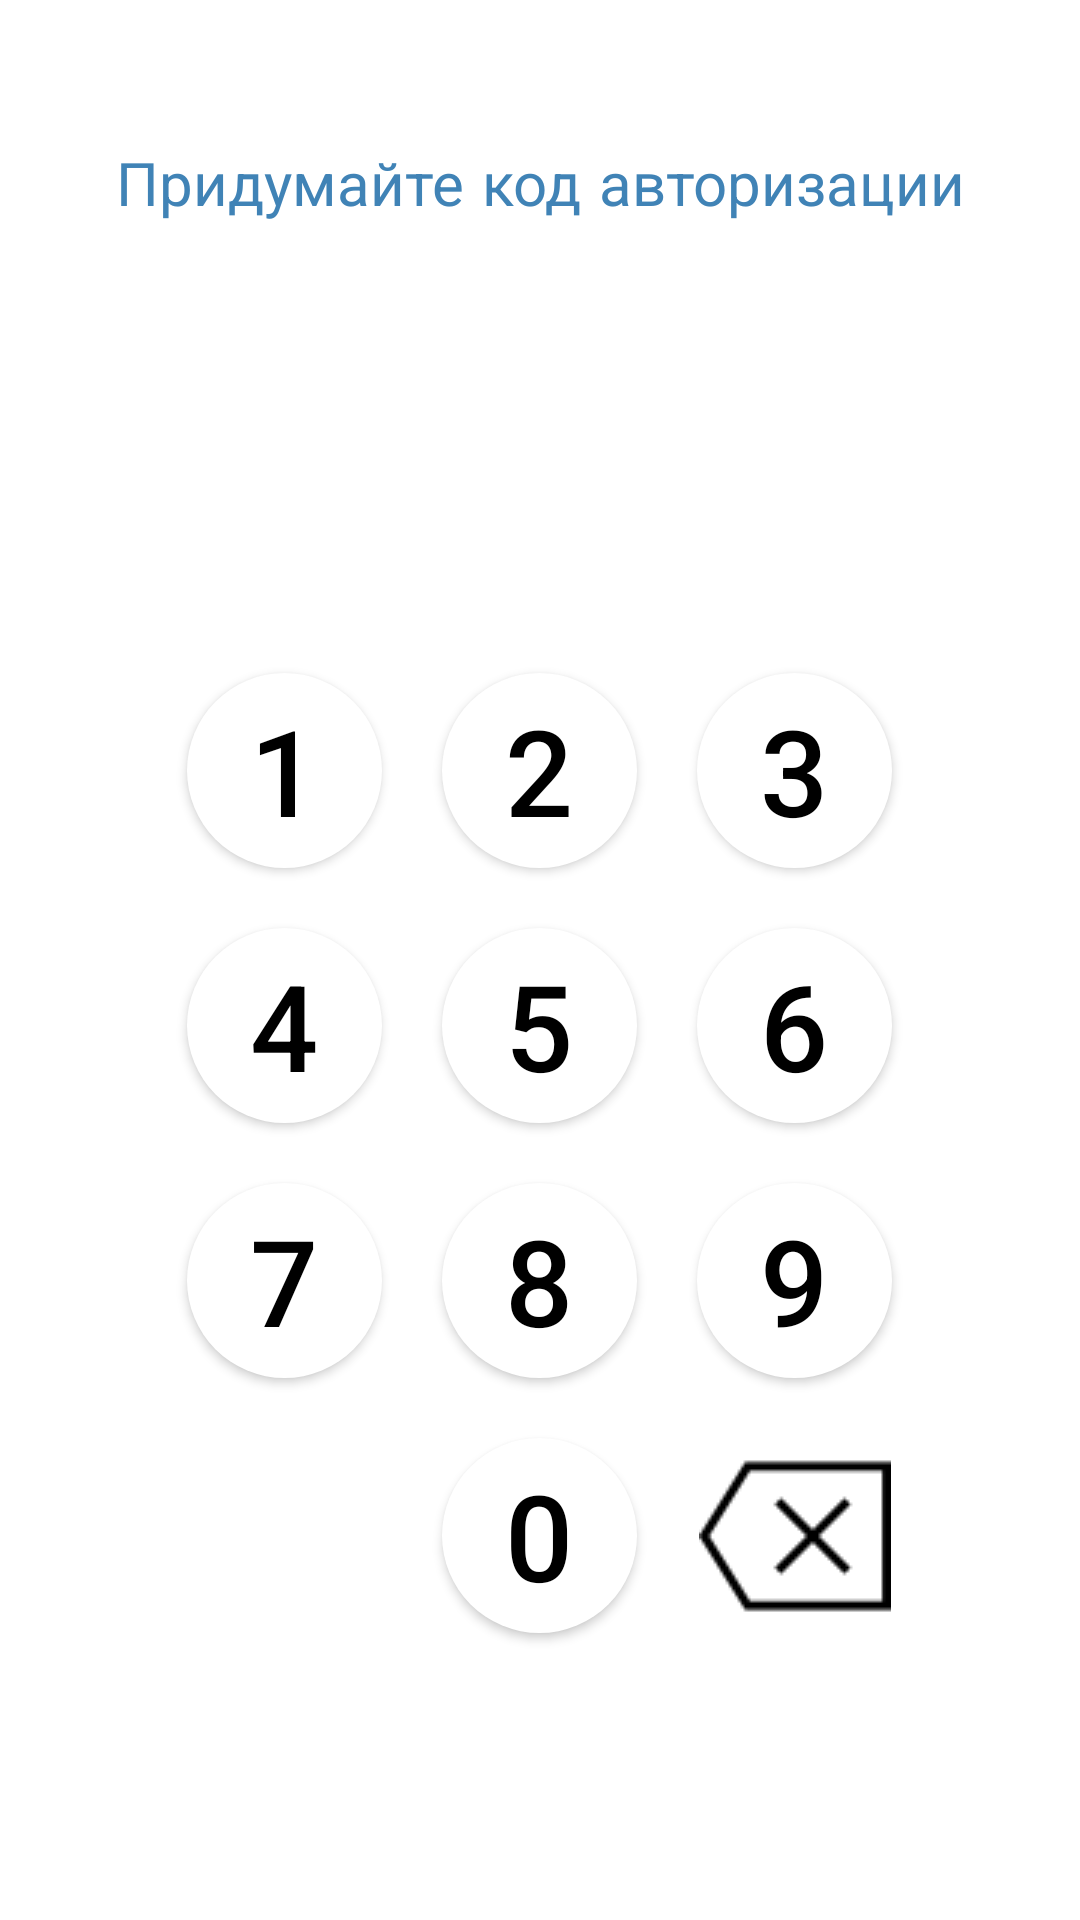

Locate icon controls on the screen. Image size 1080 × 1920, boxes as (x1, y1, x2, y2).
Delete last pin code symbol: (699, 1460, 891, 1612)
